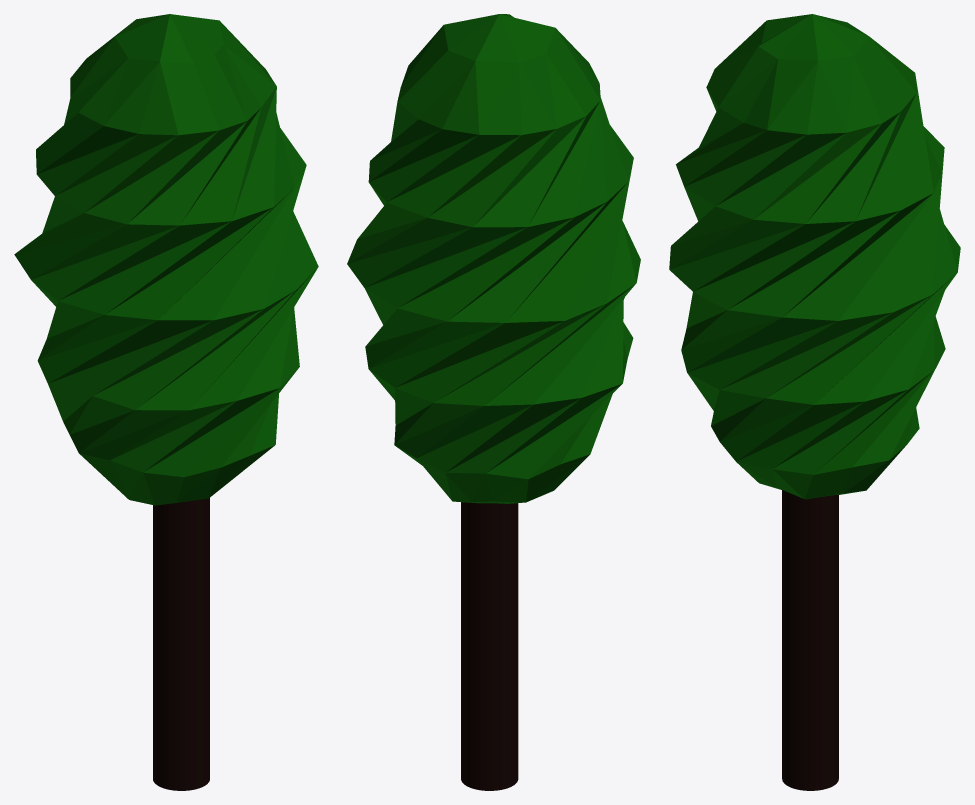
3 renders of one model, left to right at view 1: azimuth 30°, elevation 25°; view 2: azimuth 150°, elevation 25°; view 3: azimuth 270°, elevation 25°, orthographic.
Size of the model in its own units: 5.11 by 14.77 by 5.13.
